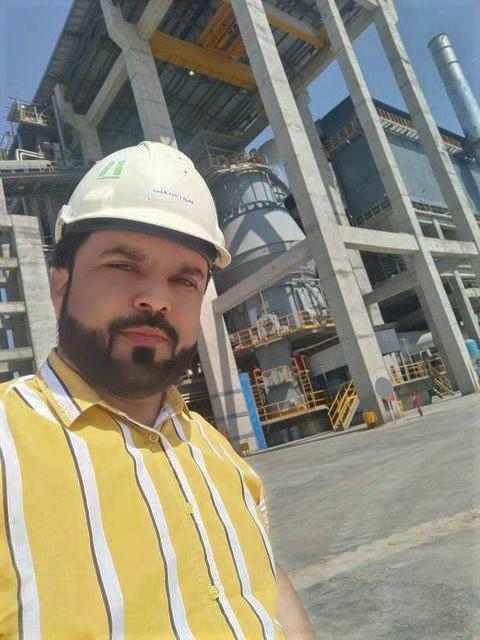helmet: (55, 141, 230, 267)
